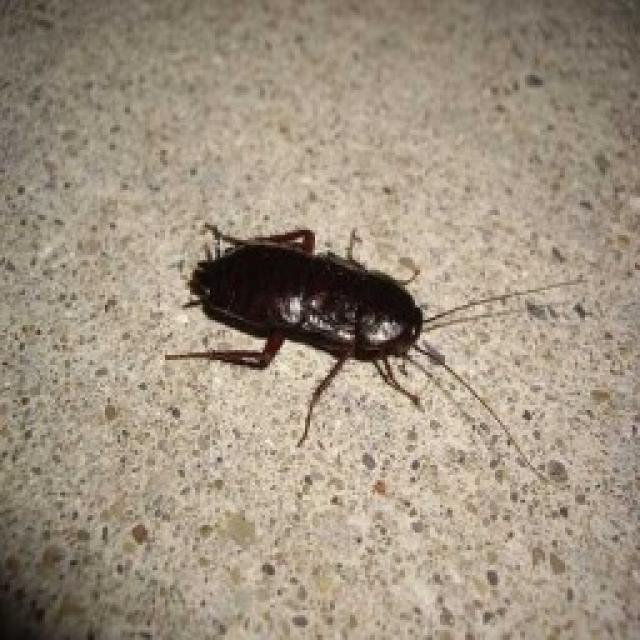cockroach: (161, 217, 586, 491)
